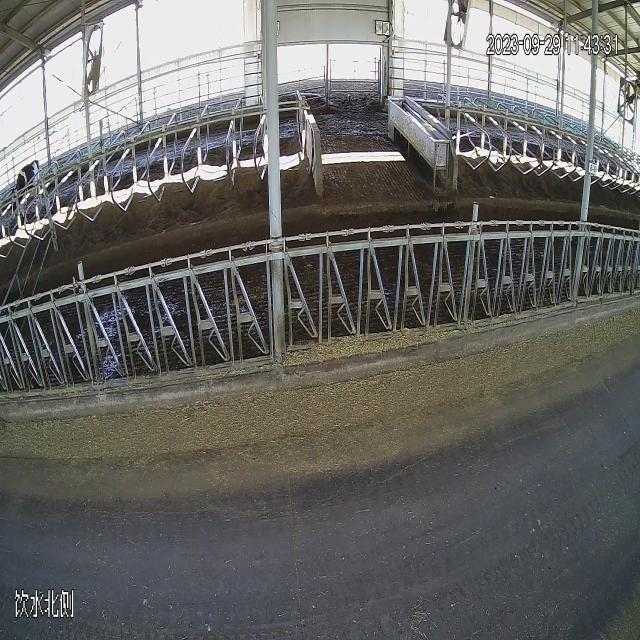standing: (8, 143, 54, 230)
